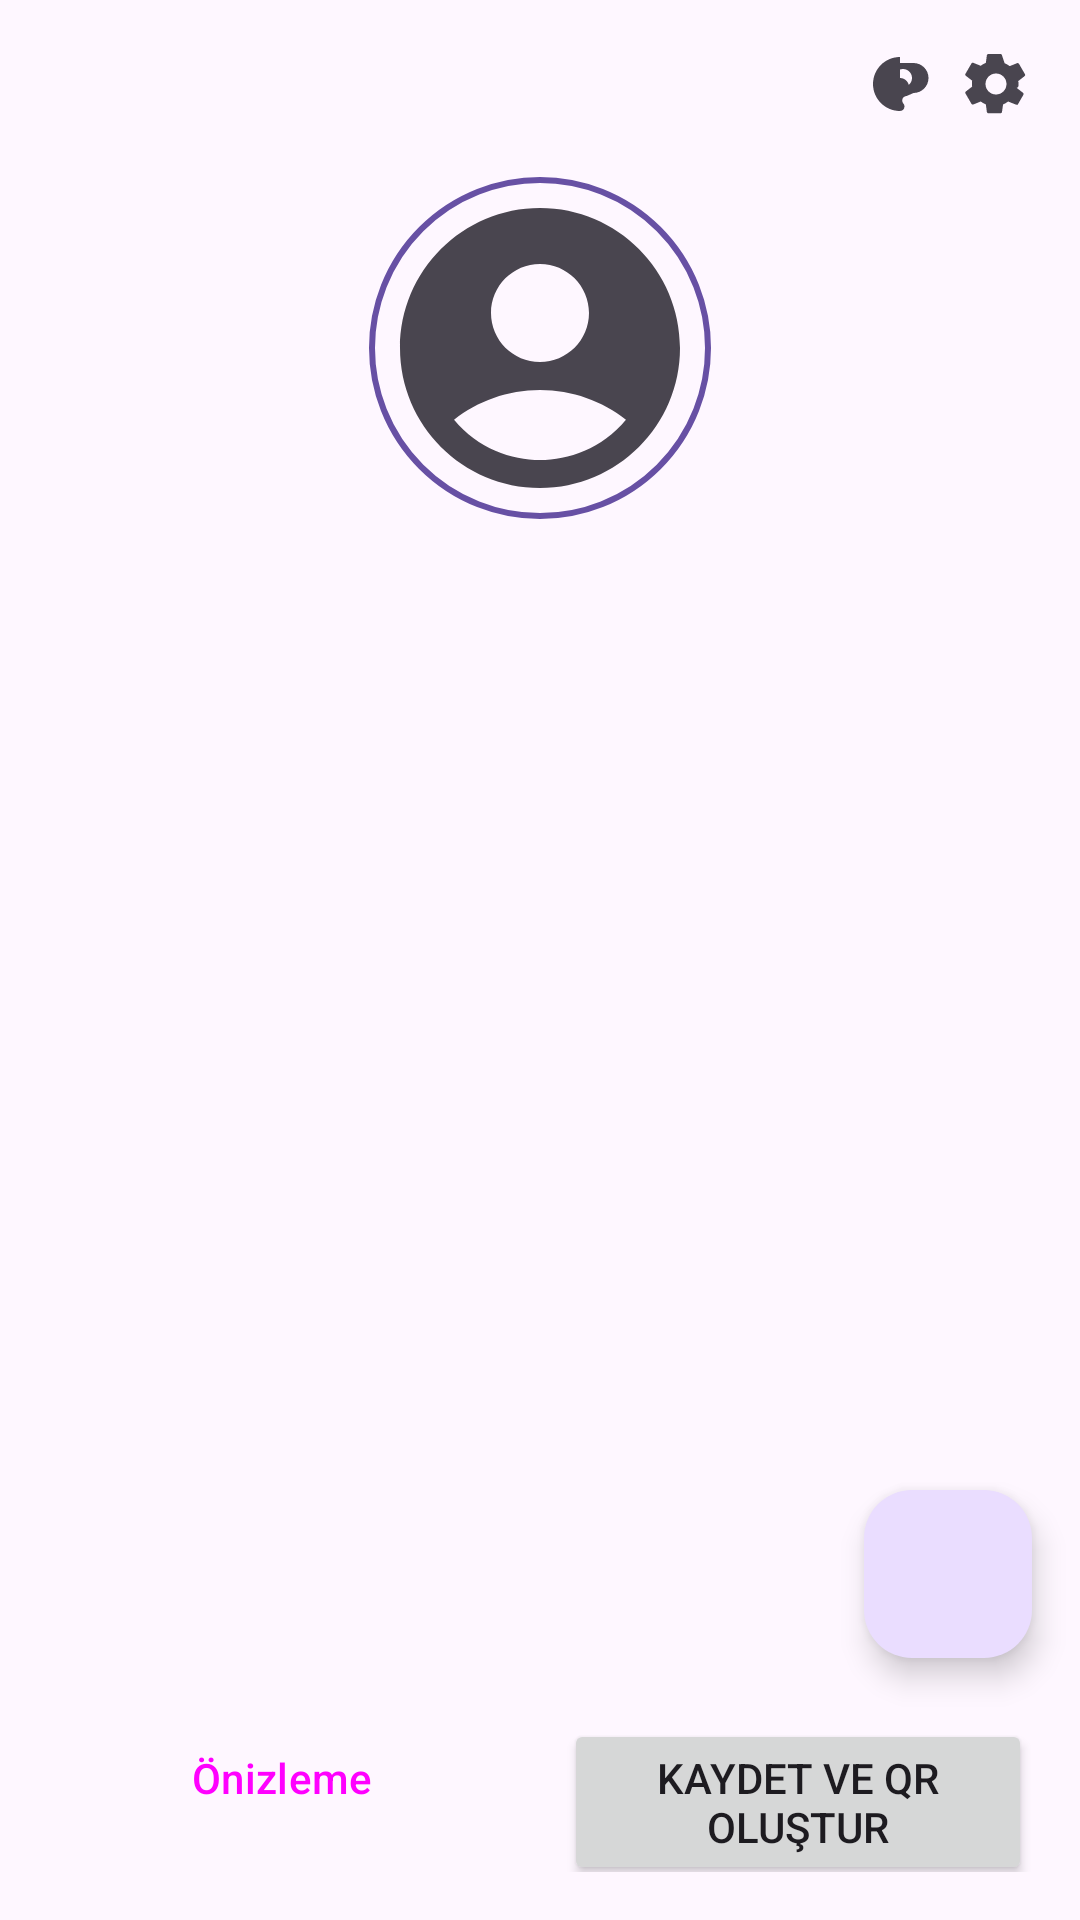

Where to tap for icons on this 1080px×1920px app screen, as (x=x, y=y):
Paket Ayarları: (x=995, y=84)
person: (x=540, y=348)
